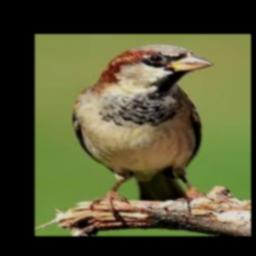Sparrow: (73, 45, 214, 216)
